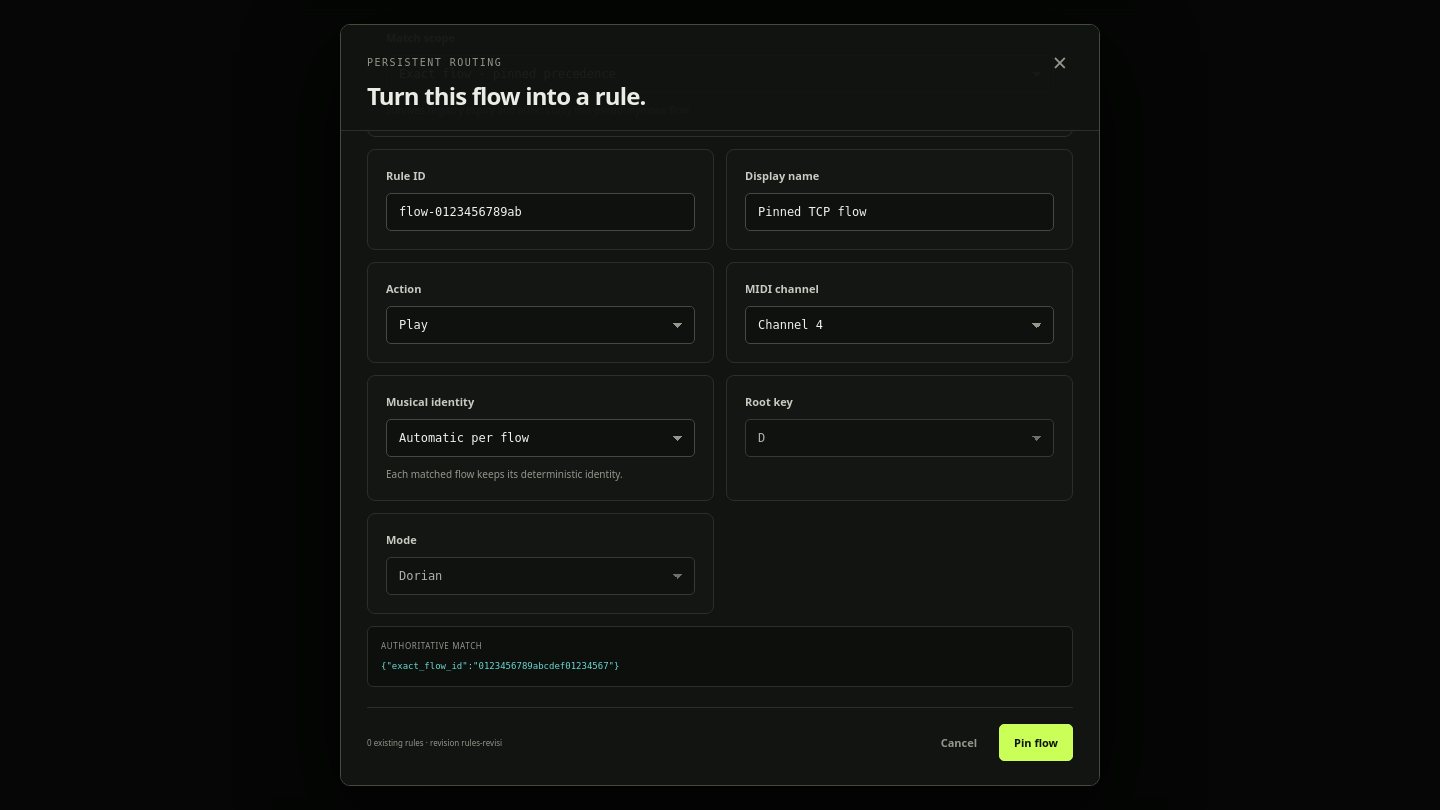
Test: rule creator › reloads a conflicting rules revision without retrying the write
(page scrolled)
Click the button "Pin flow": coordinates (1036, 743) [999,724,1073,761]
(page scrolled)
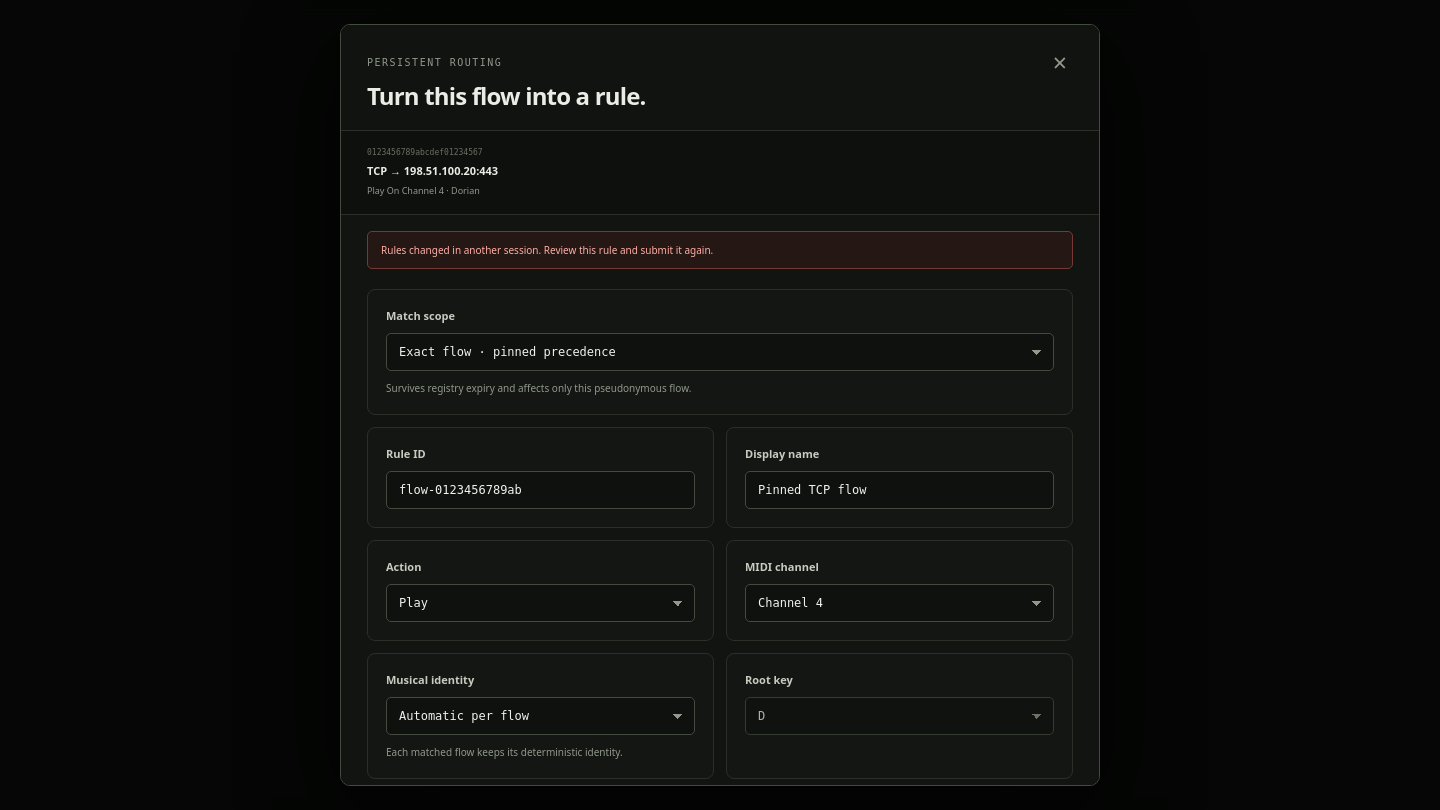
Result: the message shows "Rules changed in another session" at [381,243,713,257]
